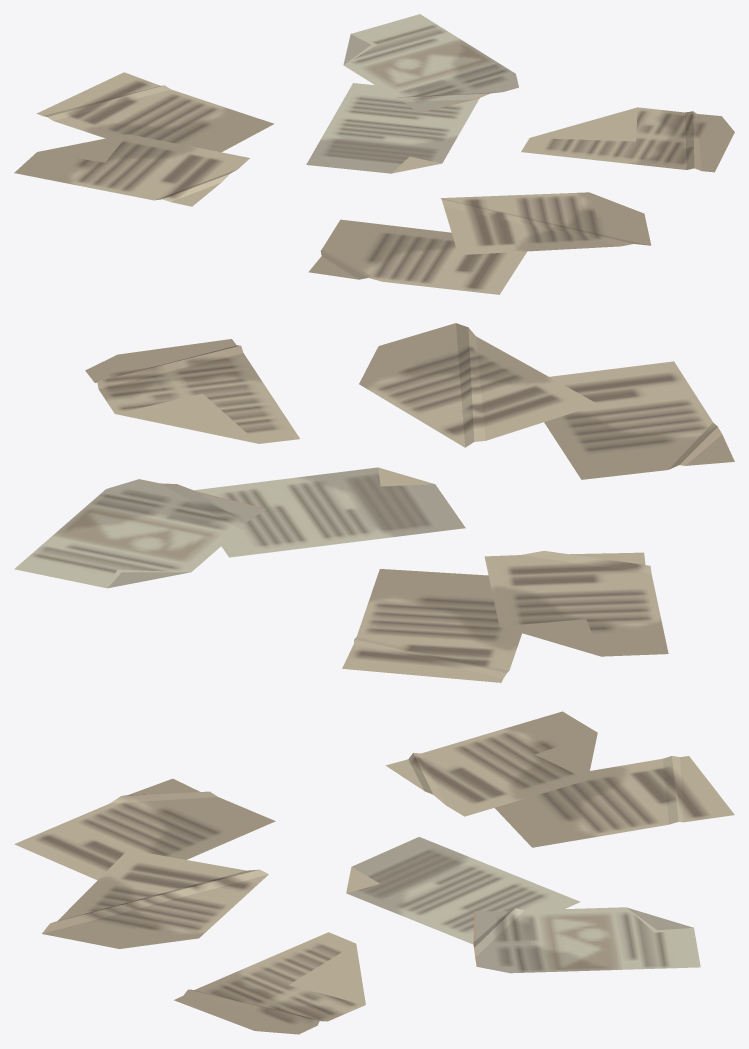
Rendered from SM_Gen_Prop_Papers_01.obj.
3 renders of one model, top to bottom at view 1: azimuth 30°, elevation 25°; view 2: azimuth 150°, elevation 25°; view 3: azimuth 270°, elevation 25°, orthographic. The views are drawn at different scales.
Parts seen in each view (by area): view 1: SM_Gen_Prop_Papers_01_0; view 2: SM_Gen_Prop_Papers_01_0; view 3: SM_Gen_Prop_Papers_01_0.
Boxes of the visible parts, x1=… form: SM_Gen_Prop_Papers_01_0: x1=14, y1=14, x2=734, y2=294; SM_Gen_Prop_Papers_01_0: x1=14, y1=323, x2=734, y2=682; SM_Gen_Prop_Papers_01_0: x1=14, y1=711, x2=734, y2=1034.
Size of the model in its own units: 1.15 by 0.00961 by 1.09.
1 material, 1 textured.
